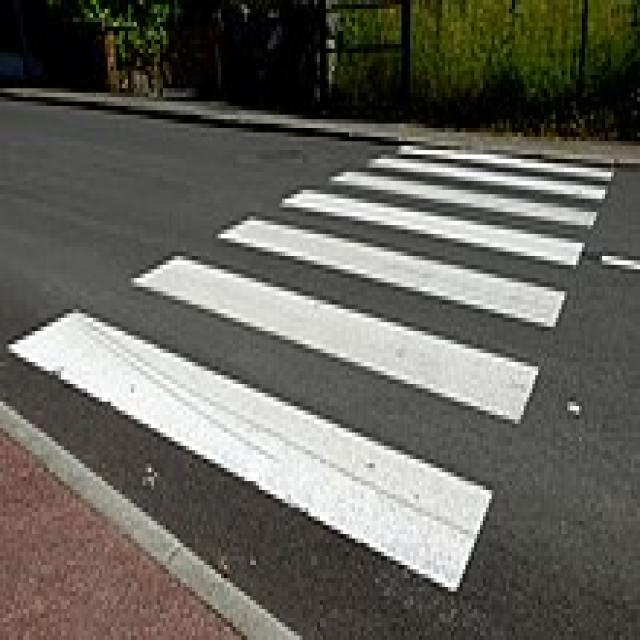Pedestrian crosswalk: (0, 140, 617, 640)
